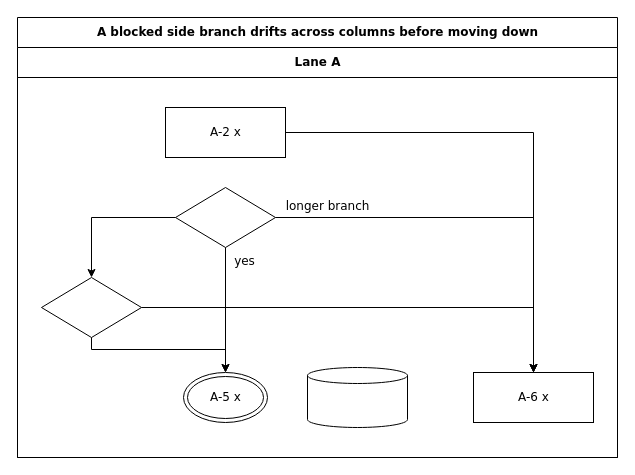
This 635x475 diagram has some shape labels left out. Each missing label, with the centre of its shape:
"A-3 x" belongs at (x=225, y=217).
"A-4 x" belongs at (x=91, y=307).
"d4" belongs at (x=357, y=397).
